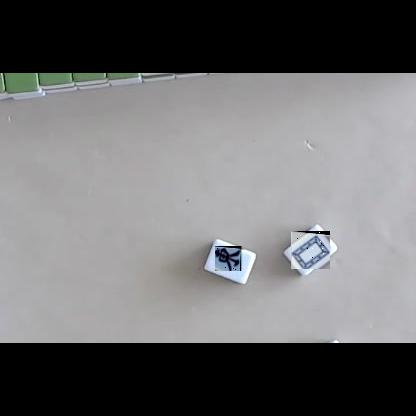1z: (216, 246, 246, 271)
5z: (291, 231, 330, 269)
